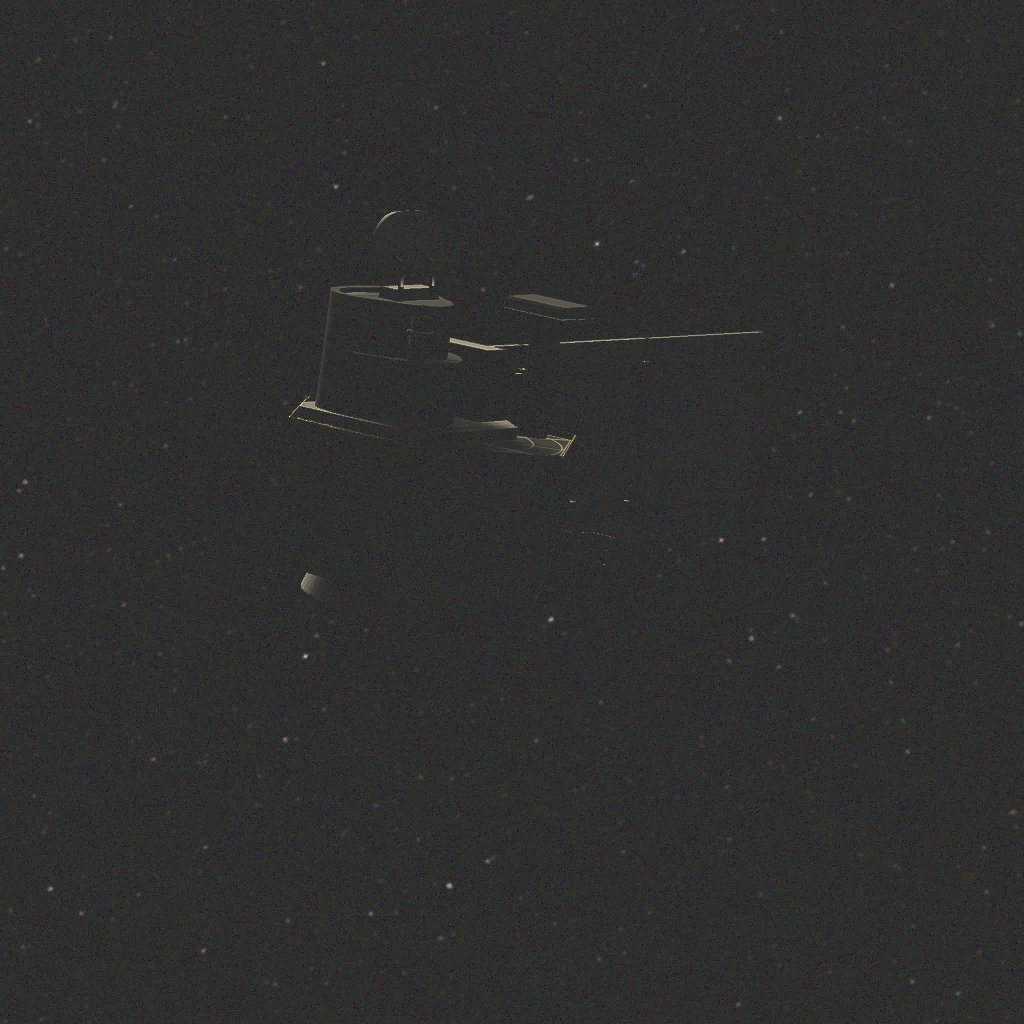earth_observation_sat_1: (270, 211, 764, 624)
